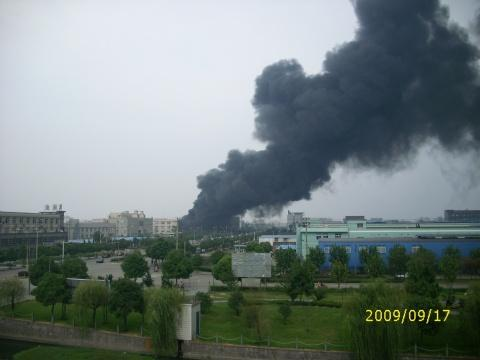smoke: (181, 1, 480, 223)
